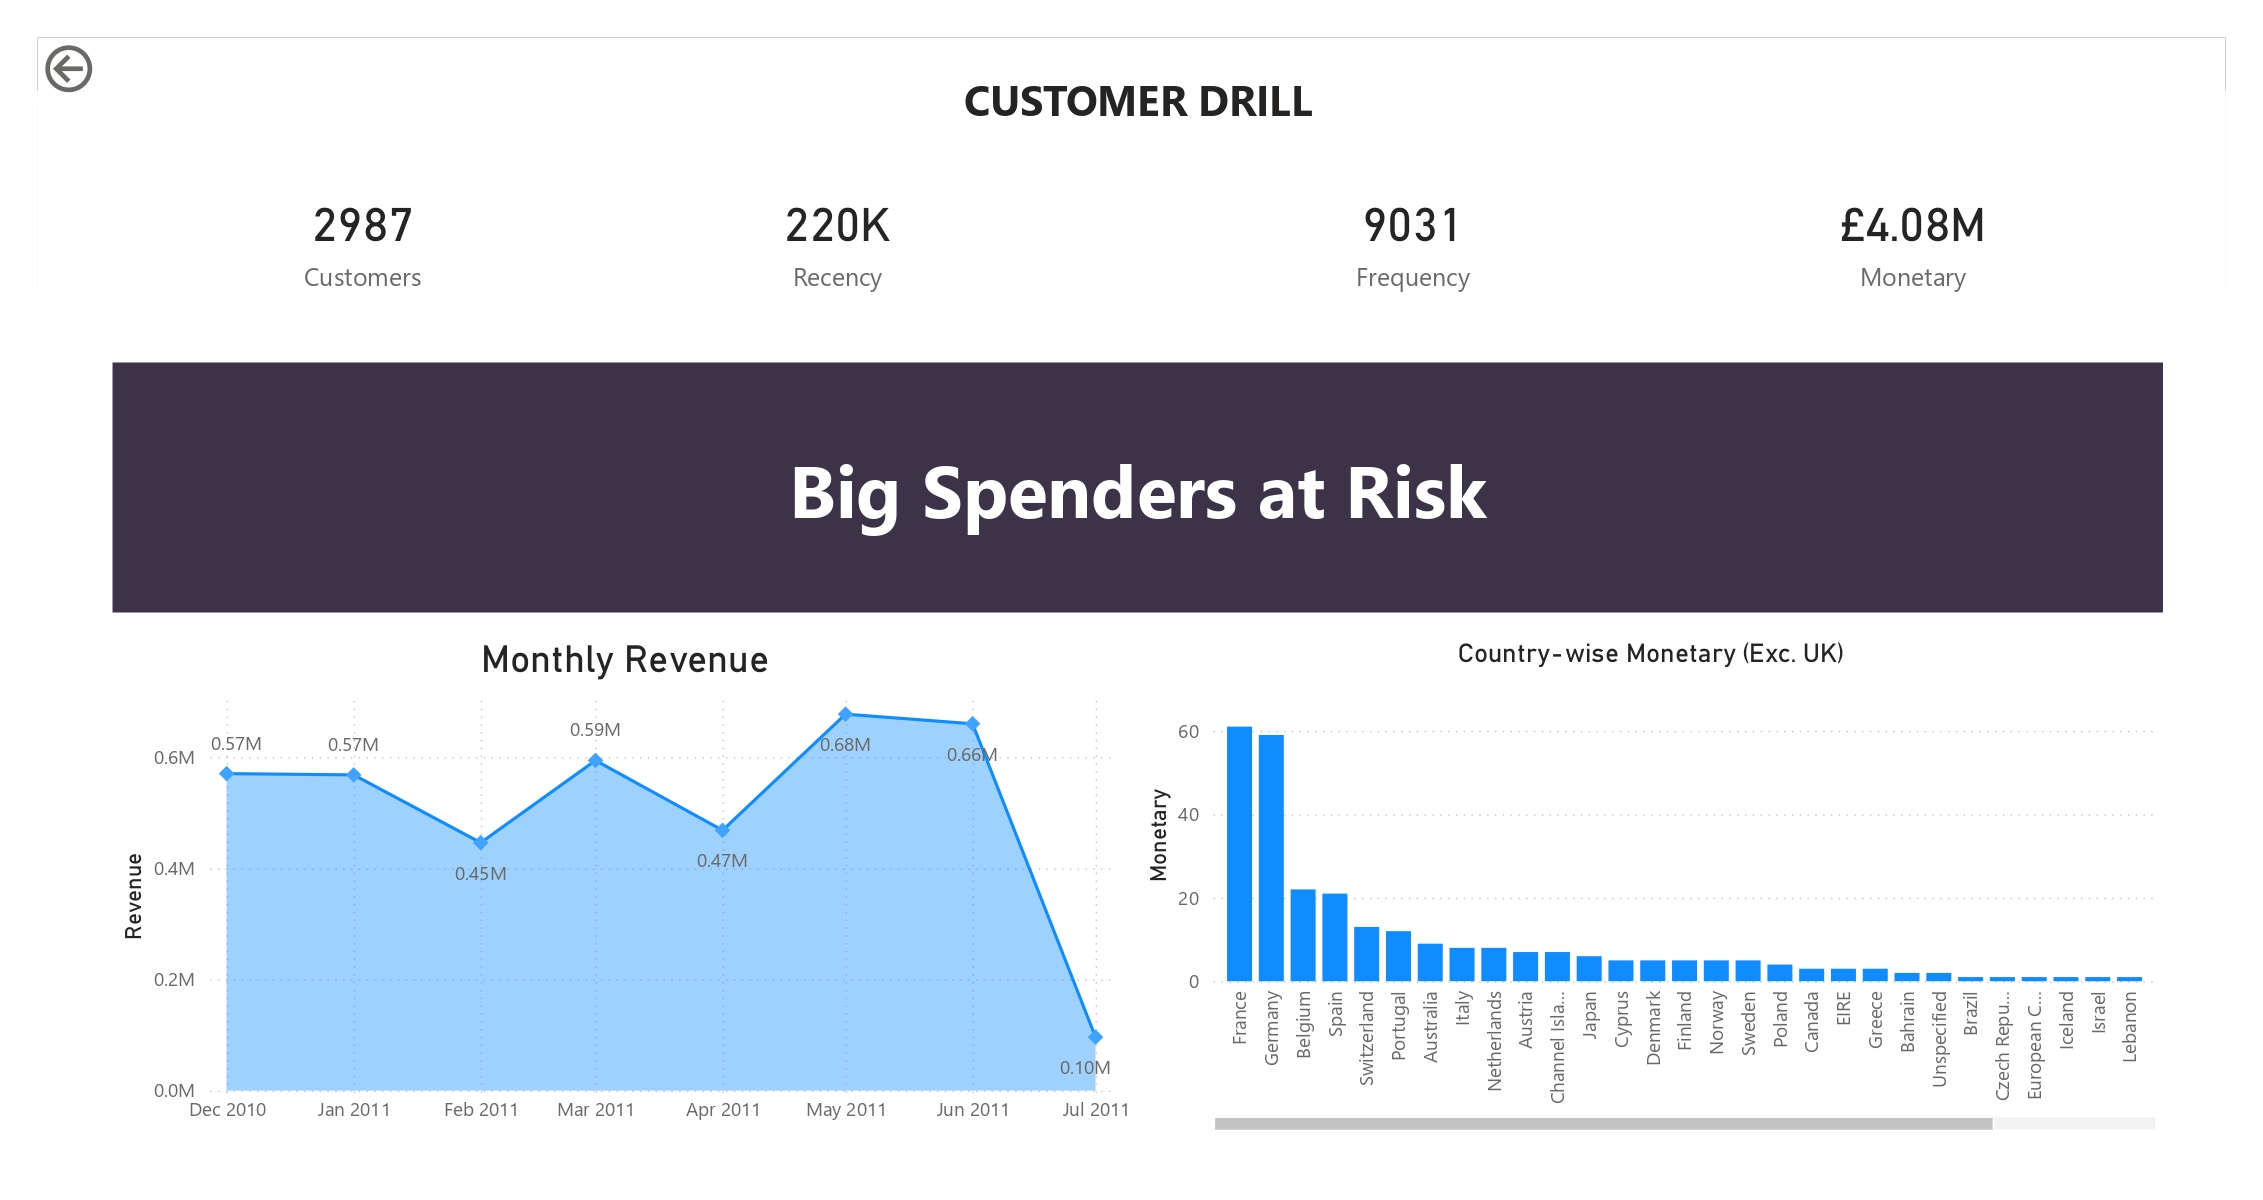

What the dashboard file says about the page in this screenshot:
{"tool":"powerbi","page":{"name":"Customer Drill","canvas":[1400,720],"ordinal":4},"visuals":[{"type":"actionButton","box":[0,0,100,40],"z":0},{"type":"card","fields":{"Values":["CountNonNull(edata_rfm_segmented.customerID)"]},"box":[80,64,256,128],"z":1000},{"type":"card","fields":{"Values":["Sum(edata_rfm_segmented.Recency)"]},"box":[384,64,256,128],"z":2000},{"type":"card","fields":{"Values":["Sum(edata_rfm_segmented.Frequency)"]},"box":[752,64,256,128],"z":3000},{"type":"card","fields":{"Values":["Sum(edata_rfm_segmented.Monetary)"]},"box":[1072,64,256,128],"z":4000},{"type":"card","fields":{"Values":["Min(edata_rfm_segmented.RFM_Segment)"]},"box":[48,208,1312,160],"z":5000},{"type":"lineChart","title":"Monthly Revenue","fields":{"Y":["edata_customer_type.Total Revenue"],"Category":["edata_customer_type.Year_Month.Variation.Date Hierarchy.Year","edata_customer_type.Year_Month.Variation.Date Hierarchy.Month"]},"box":[48,384,656,320],"z":6000},{"type":"textbox","box":[48,16,1312,48],"z":7000},{"type":"clusteredColumnChart","title":"Country-wise Monetary (Exc. UK)","fields":{"Y":["CountNonNull(edata_rfm_segmented.Monetary)"],"Category":["edata_customer_type.Country"]},"box":[704,384,656,320],"z":8000}]}

Visuals, with their boxes on the page's 1400x720 design canvas (x1, y1, x2, y2). These are canvas units, not pixel positions in the 2263x1200 screenshot, which may show the page scaled, cropped or inside an application window:
actionButton: <region>0, 0, 100, 40</region>
card - CountNonNull(edata_rfm_segmented.customerID): <region>80, 64, 336, 192</region>
card - Sum(edata_rfm_segmented.Recency): <region>384, 64, 640, 192</region>
card - Sum(edata_rfm_segmented.Frequency): <region>752, 64, 1008, 192</region>
card - Sum(edata_rfm_segmented.Monetary): <region>1072, 64, 1328, 192</region>
card - Min(edata_rfm_segmented.RFM_Segment): <region>48, 208, 1360, 368</region>
"Monthly Revenue" lineChart: <region>48, 384, 704, 704</region>
textbox: <region>48, 16, 1360, 64</region>
"Country-wise Monetary (Exc. UK)" clusteredColumnChart: <region>704, 384, 1360, 704</region>
